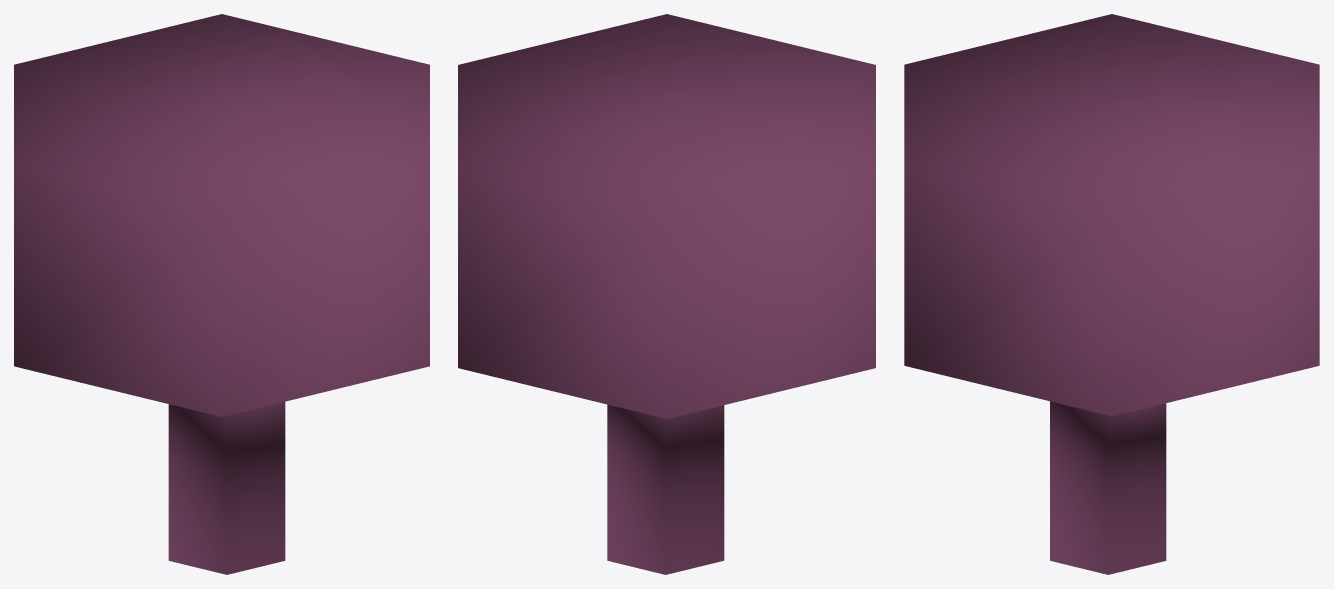
Rendered from ps2_jrpg_sacred_grove_willow_draping_tree.obj.
The picture shows the model from 3 angles, left to right: view 1: azimuth 30°, elevation 25°; view 2: azimuth 150°, elevation 25°; view 3: azimuth 270°, elevation 25°; orthographic projection.
Bounding box in the file's own units: 2 × 2 × 1.73.
